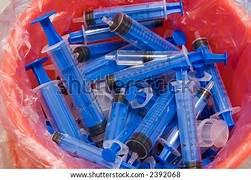Syringe: (32, 12, 105, 143), (25, 58, 81, 139), (126, 88, 175, 163), (106, 53, 189, 89), (52, 132, 132, 168), (103, 13, 178, 50), (172, 68, 200, 167), (83, 0, 182, 26), (102, 109, 141, 160), (205, 64, 234, 127), (103, 88, 128, 143), (79, 56, 127, 80), (105, 50, 180, 65), (73, 41, 126, 62), (80, 56, 127, 79), (126, 86, 157, 115), (158, 121, 179, 161), (68, 27, 115, 43), (167, 29, 186, 45)
